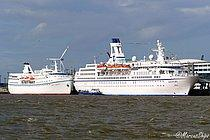Ship: (74, 35, 205, 101), (5, 57, 78, 98)
